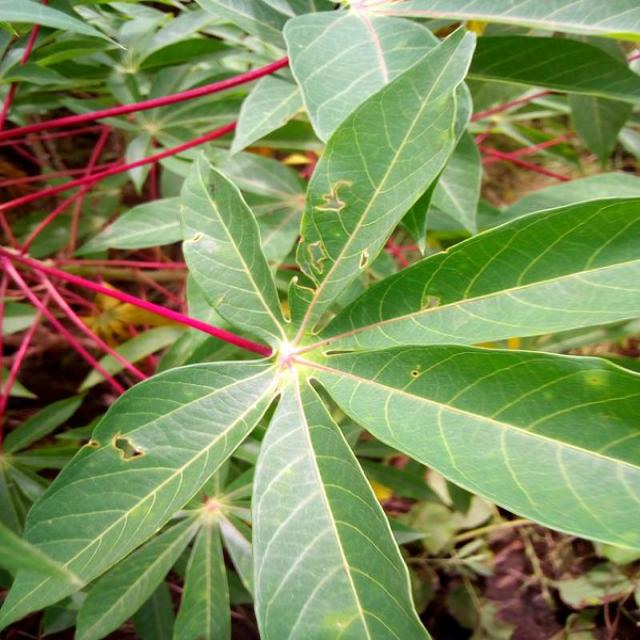cassava leaf: (3, 4, 638, 637), (289, 20, 477, 333), (250, 368, 432, 638)
